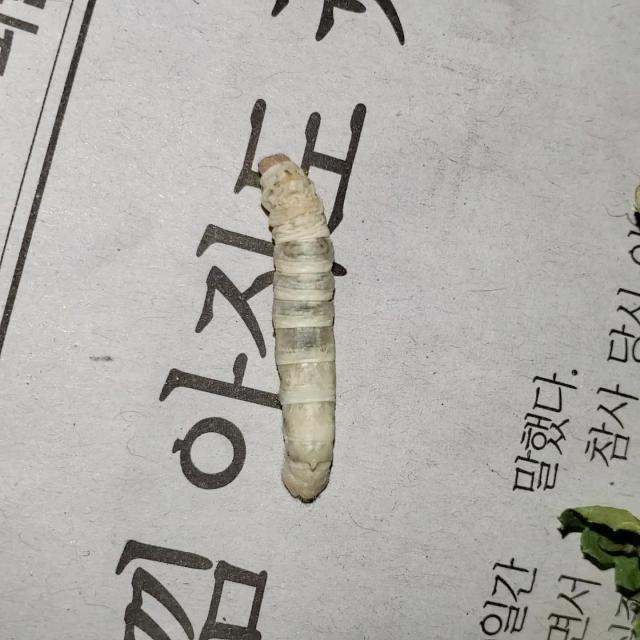Grasserie: (242, 137, 372, 511)
